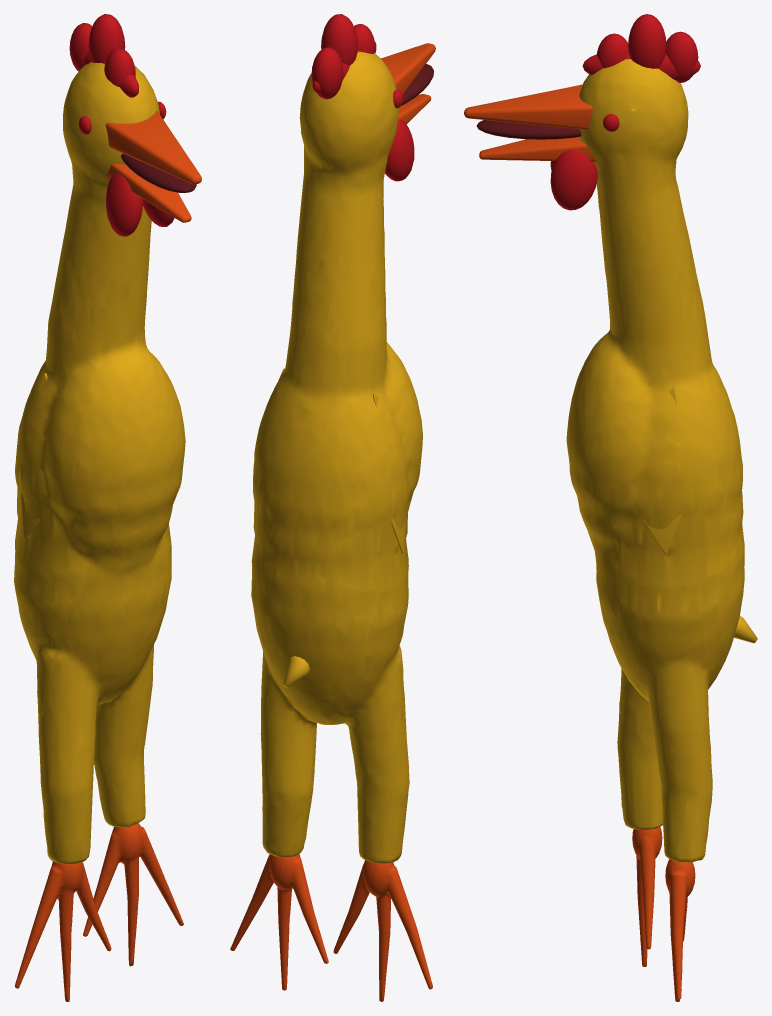
File: chicken.glb
3 renders of one model, left to right at view 1: azimuth 30°, elevation 25°; view 2: azimuth 150°, elevation 25°; view 3: azimuth 270°, elevation 25°, orthographic.
Visible parts, largest first — view 1: TKA_Chicken_MoldedBody, TKA_Chicken_LimpFoot_Left, TKA_Chicken_LimpFoot_Right, TKA_Chicken_Beak_Upper, TKA_Chicken, TKA_Chicken_Wattle_Left, TKA_Chicken_Beak_Lower, TKA_Chicken_MouthInterior, TKA_Chicken_Wattle_Right; view 2: TKA_Chicken_MoldedBody, TKA_Chicken_LimpFoot_Left, TKA_Chicken_LimpFoot_Right, TKA_Chicken, TKA_Chicken_Beak_Upper, TKA_Chicken_Wattle_Left, TKA_Chicken_MouthInterior, TKA_Chicken_TailSpur, TKA_Chicken_Beak_Lower; view 3: TKA_Chicken_MoldedBody, TKA_Chicken, TKA_Chicken_Beak_Upper, TKA_Chicken_LimpFoot_Left, TKA_Chicken_LimpFoot_Right, TKA_Chicken_Wattle_Right, TKA_Chicken_Beak_Lower, TKA_Chicken_MouthInterior.
Boxes of the visible parts, bbox=[...] form: TKA_Chicken_MoldedBody: bbox=[14, 62, 185, 864]; TKA_Chicken_LimpFoot_Left: bbox=[15, 861, 111, 1001]; TKA_Chicken_LimpFoot_Right: bbox=[83, 823, 183, 966]; TKA_Chicken_Beak_Upper: bbox=[105, 111, 201, 184]; TKA_Chicken: bbox=[69, 14, 135, 86]; TKA_Chicken_Wattle_Left: bbox=[106, 173, 142, 236]; TKA_Chicken_Beak_Lower: bbox=[106, 164, 191, 222]; TKA_Chicken_MouthInterior: bbox=[121, 153, 196, 192]; TKA_Chicken_Wattle_Right: bbox=[143, 199, 174, 226]; TKA_Chicken_MoldedBody: bbox=[251, 51, 422, 863]; TKA_Chicken_LimpFoot_Left: bbox=[333, 860, 432, 1001]; TKA_Chicken_LimpFoot_Right: bbox=[230, 854, 328, 990]; TKA_Chicken: bbox=[311, 14, 375, 99]; TKA_Chicken_Beak_Upper: bbox=[381, 43, 435, 94]; TKA_Chicken_Wattle_Left: bbox=[385, 119, 414, 181]; TKA_Chicken_MouthInterior: bbox=[401, 64, 433, 105]; TKA_Chicken_TailSpur: bbox=[283, 656, 309, 687]; TKA_Chicken_Beak_Lower: bbox=[398, 94, 431, 124]; TKA_Chicken_MoldedBody: bbox=[566, 59, 744, 862]; TKA_Chicken: bbox=[596, 14, 698, 82]; TKA_Chicken_Beak_Upper: bbox=[464, 84, 593, 129]; TKA_Chicken_LimpFoot_Left: bbox=[632, 827, 662, 966]; TKA_Chicken_LimpFoot_Right: bbox=[665, 859, 695, 1001]; TKA_Chicken_Wattle_Right: bbox=[550, 149, 597, 210]; TKA_Chicken_Beak_Lower: bbox=[479, 137, 596, 161]; TKA_Chicken_MouthInterior: bbox=[476, 120, 581, 139].
Size of the model in its own units: 0.1548 by 0.778 by 0.2133.
